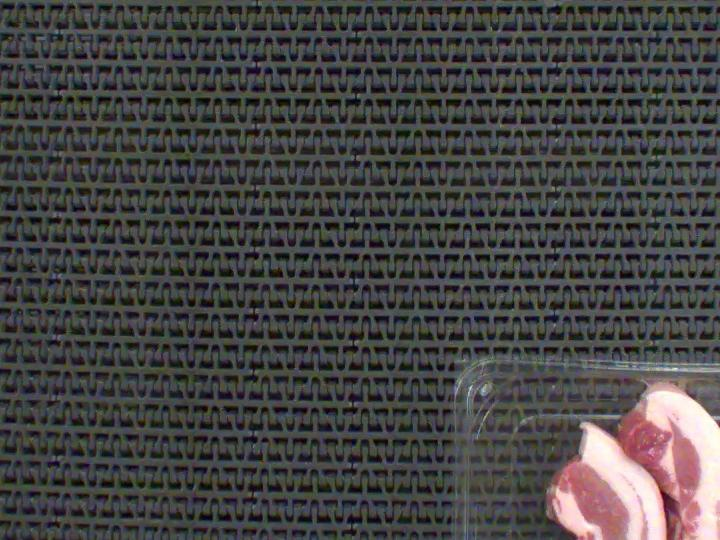packaging-error: (636, 372, 694, 394)
